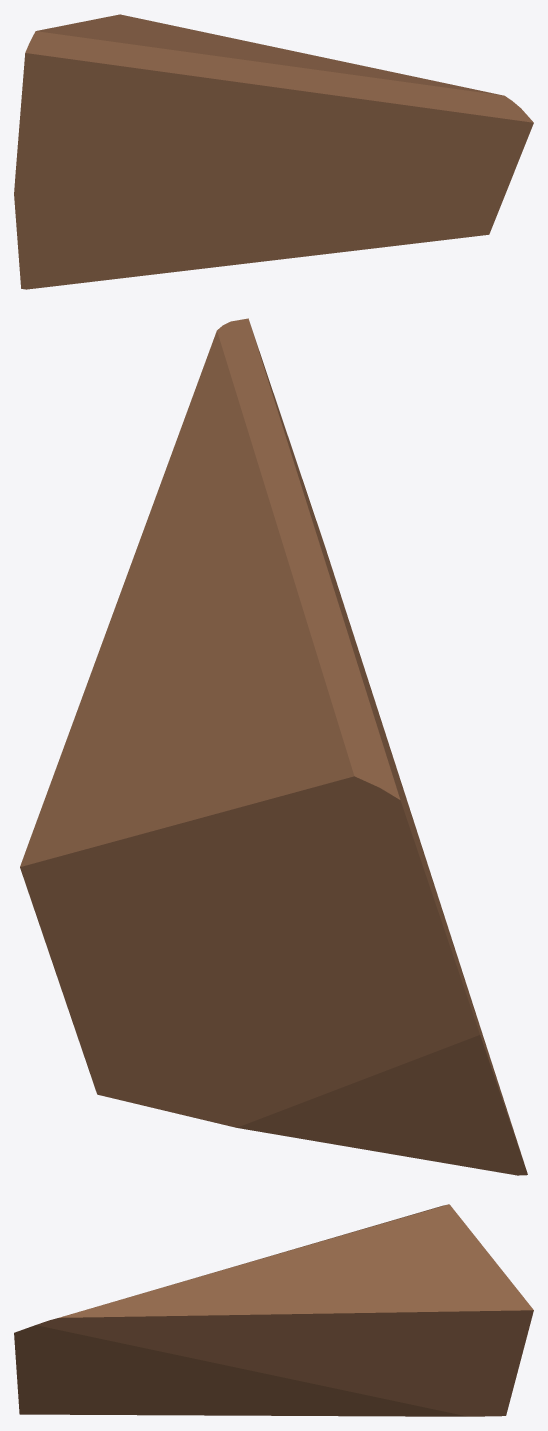
File: WoodCellCube_003_cell_057.fbx
3 renders of one model, top to bottom at view 1: azimuth 30°, elevation 25°; view 2: azimuth 150°, elevation 25°; view 3: azimuth 270°, elevation 25°, orthographic. The views are drawn at different scales.
Visible parts, largest first — view 1: WoodCellCube_003_cell_057; view 2: WoodCellCube_003_cell_057; view 3: WoodCellCube_003_cell_057.
Part boxes in pixels (x1,y1,x2,y2): WoodCellCube_003_cell_057: (14,14,533,289); WoodCellCube_003_cell_057: (20,318,527,1175); WoodCellCube_003_cell_057: (14,1204,533,1416).
Size of the model in its own units: 0.8669 by 0.4212 by 0.6183.
Materials: 1 (1 with a texture image).
